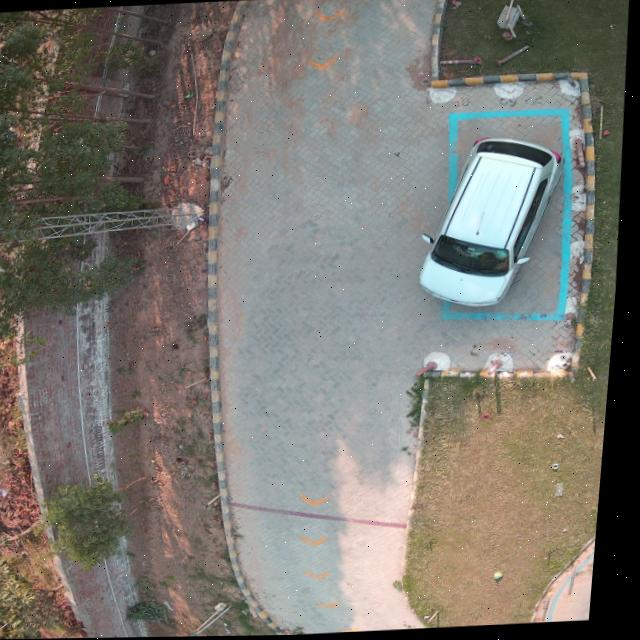car: (424, 137, 566, 307)
